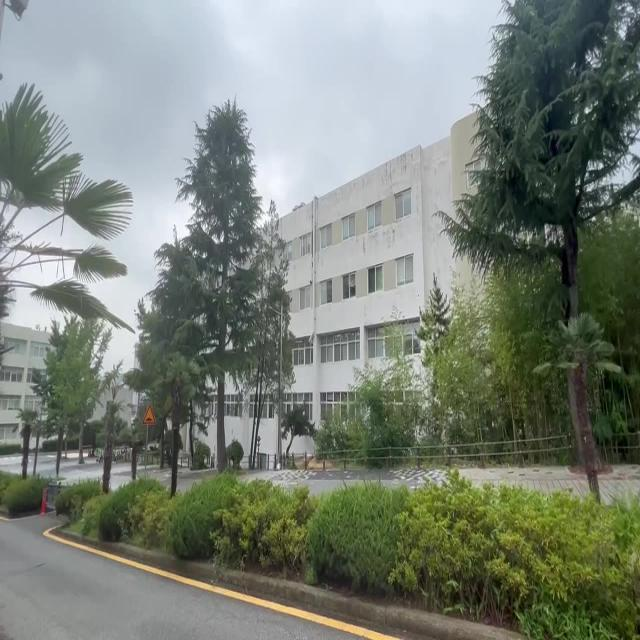building: (294, 157, 429, 390)
